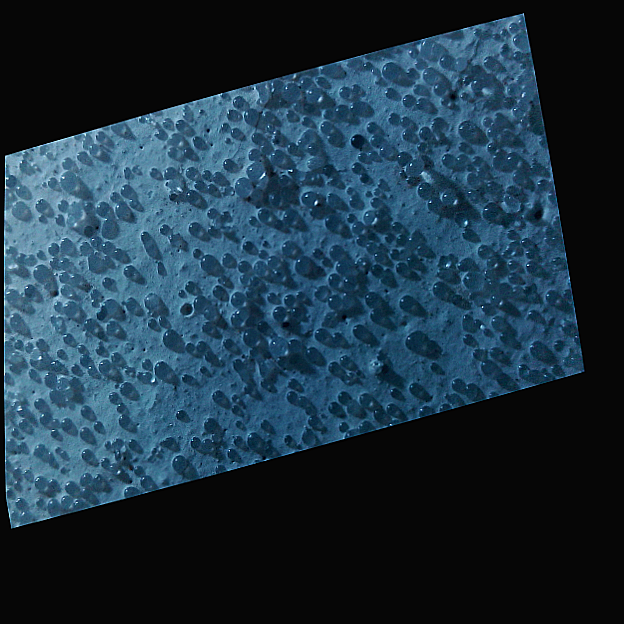GrassBeadSeg: (20, 46, 417, 506), (49, 20, 517, 399), (78, 62, 459, 482), (71, 23, 516, 371), (14, 78, 366, 505), (70, 98, 446, 493), (4, 96, 427, 444), (127, 84, 517, 448), (34, 151, 449, 486), (39, 68, 427, 423), (34, 127, 411, 487), (63, 54, 494, 341), (24, 111, 542, 348), (10, 181, 472, 437), (15, 90, 468, 345), (88, 82, 514, 352), (90, 32, 524, 297), (33, 102, 355, 453), (95, 129, 495, 409), (128, 55, 488, 357), (60, 111, 392, 435), (40, 170, 483, 407), (35, 111, 398, 399), (95, 98, 464, 372), (98, 87, 439, 371), (68, 60, 398, 343), (18, 159, 364, 428), (79, 134, 382, 436), (100, 162, 422, 428), (42, 225, 473, 421), (80, 251, 487, 458), (53, 75, 411, 309), (117, 141, 492, 359), (92, 194, 439, 429), (47, 53, 452, 253), (82, 150, 519, 327), (87, 195, 380, 458), (197, 92, 413, 447), (133, 74, 322, 473), (148, 115, 444, 367), (262, 109, 563, 348), (67, 163, 503, 325), (36, 107, 236, 453), (58, 212, 320, 465), (101, 76, 481, 250), (10, 248, 379, 419), (203, 95, 424, 374), (220, 121, 554, 300), (12, 199, 301, 404), (163, 173, 482, 356), (56, 219, 401, 387), (184, 80, 444, 291), (182, 82, 358, 380), (207, 151, 453, 359), (62, 235, 311, 440), (7, 182, 239, 402), (248, 146, 509, 339), (220, 26, 480, 218), (52, 127, 210, 435), (109, 109, 327, 332), (80, 150, 504, 260), (76, 53, 520, 158), (20, 166, 471, 269), (163, 42, 509, 176), (185, 188, 391, 413), (92, 189, 281, 431), (85, 198, 485, 311), (125, 189, 316, 423), (36, 107, 332, 257), (263, 118, 471, 329), (338, 86, 500, 356), (59, 253, 314, 423), (56, 256, 489, 355), (204, 188, 455, 358), (9, 169, 522, 252), (244, 133, 406, 392), (35, 107, 203, 346), (191, 199, 346, 458), (212, 49, 519, 179), (25, 339, 379, 451), (272, 141, 495, 317), (245, 127, 470, 299), (81, 239, 295, 415), (34, 238, 254, 406), (288, 54, 413, 349), (63, 308, 533, 386), (64, 361, 337, 491), (88, 249, 529, 329), (32, 177, 366, 280), (281, 95, 392, 401), (13, 254, 365, 348), (140, 139, 467, 239), (224, 27, 506, 141), (201, 168, 516, 268), (341, 84, 511, 268), (320, 77, 514, 238), (60, 178, 496, 249), (53, 181, 382, 274), (199, 259, 537, 349), (175, 341, 563, 418), (273, 185, 436, 368), (237, 258, 462, 389), (151, 147, 381, 275), (260, 271, 516, 385), (55, 152, 468, 221), (108, 150, 311, 285), (327, 82, 422, 370), (162, 93, 374, 221), (79, 206, 238, 370), (246, 331, 472, 446), (15, 251, 500, 304), (321, 161, 490, 312), (376, 139, 492, 358), (350, 240, 518, 384), (295, 257, 543, 353), (465, 163, 578, 364), (100, 289, 376, 370), (308, 62, 367, 438), (54, 252, 242, 368), (4, 260, 161, 397), (333, 180, 425, 413), (480, 115, 566, 363), (10, 160, 360, 220), (231, 312, 472, 399), (4, 114, 191, 226), (153, 295, 413, 375), (21, 149, 152, 307), (30, 166, 136, 359), (120, 240, 249, 398), (230, 222, 469, 305), (188, 220, 409, 308), (190, 279, 333, 410), (313, 180, 431, 338), (247, 306, 381, 445), (346, 17, 525, 121), (33, 366, 237, 456), (194, 82, 355, 190), (314, 86, 368, 402), (110, 190, 203, 371), (338, 289, 556, 363), (222, 156, 489, 216), (192, 116, 306, 256), (47, 174, 117, 400), (9, 361, 127, 494), (336, 332, 579, 396), (326, 77, 390, 319), (317, 297, 473, 395), (80, 323, 237, 416), (185, 308, 538, 349), (106, 274, 355, 330), (289, 214, 480, 287), (480, 35, 520, 370), (416, 241, 507, 385), (209, 269, 362, 354), (374, 250, 496, 355), (223, 129, 295, 306), (193, 182, 286, 316), (159, 222, 400, 273), (118, 337, 257, 424), (92, 401, 239, 483), (120, 181, 249, 270), (102, 247, 399, 285), (286, 119, 326, 398), (251, 130, 362, 230), (248, 217, 307, 404), (207, 223, 534, 256), (167, 109, 265, 219), (17, 165, 130, 260), (257, 80, 298, 329), (36, 350, 355, 382), (252, 258, 349, 363), (232, 57, 444, 105), (54, 308, 190, 380), (5, 172, 216, 218), (384, 143, 480, 243), (12, 238, 89, 361), (424, 243, 487, 393), (230, 94, 448, 137), (375, 188, 549, 241), (375, 203, 424, 391), (4, 327, 104, 419), (246, 106, 368, 181), (334, 86, 417, 194), (185, 129, 370, 177), (82, 140, 131, 320), (357, 87, 479, 159), (360, 65, 415, 222), (365, 253, 412, 431), (468, 198, 551, 297), (394, 260, 458, 387), (307, 141, 397, 230), (220, 418, 365, 473), (451, 224, 552, 302), (257, 85, 395, 141), (227, 339, 317, 424), (4, 228, 91, 314), (257, 206, 297, 387), (83, 200, 110, 465), (96, 199, 152, 325), (483, 267, 546, 379), (301, 114, 337, 307), (351, 281, 479, 335), (115, 117, 183, 213), (272, 74, 363, 145), (453, 55, 511, 165), (62, 140, 296, 167), (147, 316, 195, 446), (211, 223, 258, 354), (83, 264, 160, 342), (187, 226, 248, 323), (192, 140, 329, 183), (51, 349, 118, 436), (111, 134, 202, 198), (193, 286, 445, 309), (162, 326, 216, 431), (212, 251, 335, 297), (298, 130, 338, 271), (228, 213, 335, 265), (168, 175, 252, 240), (401, 240, 554, 275), (149, 156, 421, 175), (196, 338, 537, 353), (5, 166, 136, 205), (51, 436, 120, 510), (151, 418, 301, 452), (298, 249, 394, 302), (306, 85, 326, 339), (164, 232, 185, 468), (124, 170, 476, 184), (90, 297, 150, 379), (497, 234, 529, 383), (364, 26, 477, 68), (288, 294, 340, 385), (220, 90, 311, 141), (295, 190, 337, 300), (364, 131, 380, 404), (6, 282, 54, 370), (137, 433, 242, 472), (274, 188, 378, 227), (141, 288, 184, 380), (287, 99, 362, 151), (233, 103, 376, 130), (333, 136, 476, 163), (324, 119, 357, 231), (289, 72, 325, 171), (343, 259, 444, 294), (161, 364, 212, 429), (453, 162, 509, 221), (56, 195, 282, 209), (237, 355, 280, 428), (265, 108, 317, 168), (161, 406, 237, 447), (18, 158, 32, 376), (4, 370, 57, 422), (5, 185, 75, 223), (414, 37, 469, 85), (288, 379, 419, 399), (172, 182, 215, 242), (221, 243, 342, 264), (398, 56, 422, 161), (506, 134, 546, 192), (65, 134, 91, 222), (50, 328, 100, 373), (280, 329, 340, 366), (123, 439, 161, 496), (46, 438, 115, 469), (349, 131, 385, 187), (102, 206, 135, 262), (58, 464, 150, 484), (488, 254, 508, 340), (121, 356, 150, 411), (4, 370, 59, 399), (250, 214, 279, 267), (172, 325, 257, 343), (471, 293, 516, 327), (462, 74, 492, 125), (242, 141, 269, 195), (6, 421, 57, 449), (116, 199, 134, 275), (347, 192, 432, 208), (490, 30, 507, 107), (177, 292, 211, 330), (82, 465, 123, 496), (417, 65, 434, 137), (486, 102, 523, 135), (46, 475, 147, 487), (551, 288, 565, 373), (517, 242, 526, 373), (312, 284, 370, 304), (454, 278, 495, 305), (272, 266, 295, 313), (85, 296, 114, 333), (261, 225, 280, 279), (285, 77, 311, 116), (43, 363, 95, 381), (6, 251, 57, 269), (476, 160, 538, 174), (384, 149, 410, 182), (267, 290, 300, 316), (318, 59, 376, 73), (199, 252, 217, 295), (282, 199, 314, 222), (80, 342, 103, 373), (522, 283, 569, 298), (250, 274, 277, 300), (331, 215, 343, 273), (53, 486, 82, 510), (203, 281, 223, 315), (124, 289, 159, 308), (508, 86, 531, 114), (377, 143, 408, 162), (168, 133, 177, 198), (544, 189, 555, 241), (168, 436, 210, 449), (90, 235, 109, 263), (69, 342, 81, 384), (4, 254, 15, 299), (60, 487, 83, 506), (207, 444, 223, 471), (377, 174, 415, 185), (171, 131, 189, 154), (6, 476, 29, 493), (372, 400, 396, 416), (372, 186, 384, 218), (5, 437, 15, 475), (4, 338, 20, 361), (48, 449, 65, 470), (63, 264, 80, 285), (18, 502, 39, 518), (83, 224, 99, 243), (218, 273, 248, 283), (108, 448, 121, 469), (240, 272, 259, 286), (48, 254, 68, 267), (510, 283, 531, 295), (407, 234, 415, 265), (12, 465, 32, 477), (396, 232, 414, 245), (9, 486, 17, 515), (35, 496, 53, 508), (545, 229, 558, 244), (12, 399, 25, 414), (60, 282, 75, 295), (541, 368, 554, 382), (476, 324, 490, 336), (212, 387, 223, 399), (477, 242, 490, 251), (536, 177, 546, 188), (190, 434, 199, 446), (158, 313, 167, 322), (346, 211, 354, 221), (131, 165, 136, 170)
